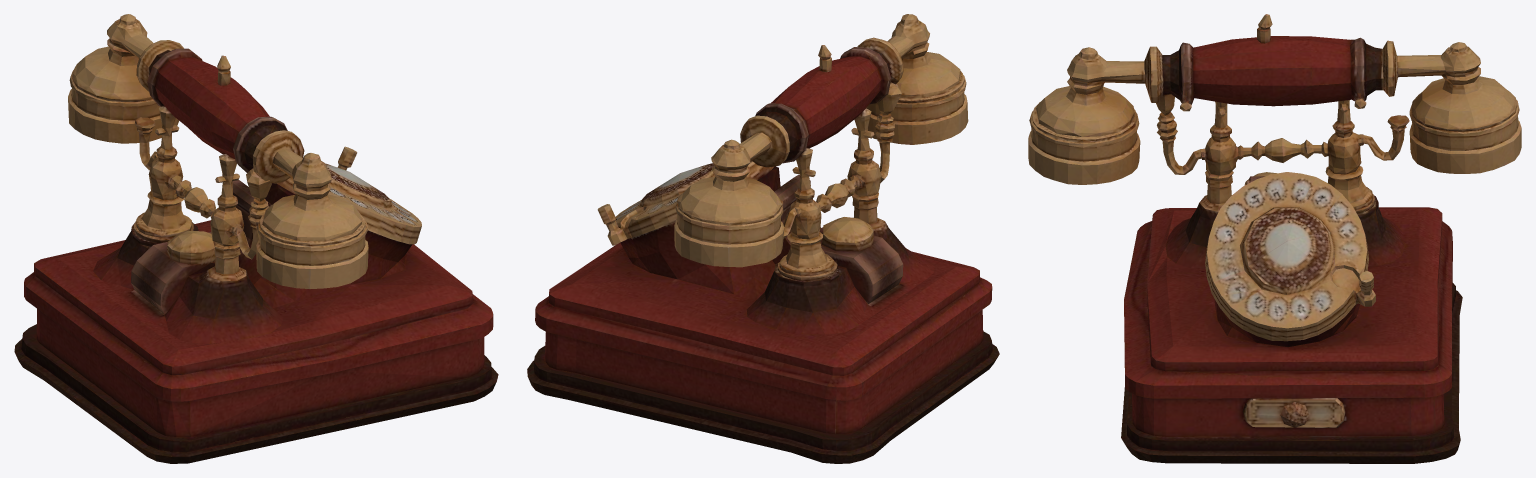
File: old_telephone.glb
The picture shows the model from 3 angles, left to right: view 1: azimuth 30°, elevation 25°; view 2: azimuth 150°, elevation 25°; view 3: azimuth 270°, elevation 25°; orthographic projection. The views are drawn at different scales.
Visible parts, largest first — view 1: tripo_node_2b449225-915a-49da-9f1f-0a9c120de35a; view 2: tripo_node_2b449225-915a-49da-9f1f-0a9c120de35a; view 3: tripo_node_2b449225-915a-49da-9f1f-0a9c120de35a.
Boxes of the visible parts, left/top/right/bottom form: tripo_node_2b449225-915a-49da-9f1f-0a9c120de35a: left=14, top=14, right=498, bottom=463; tripo_node_2b449225-915a-49da-9f1f-0a9c120de35a: left=527, top=14, right=999, bottom=463; tripo_node_2b449225-915a-49da-9f1f-0a9c120de35a: left=1028, top=14, right=1521, bottom=463.
Size of the model in its own units: 0.8418 by 0.7676 by 0.998.
1 material, 1 textured.
